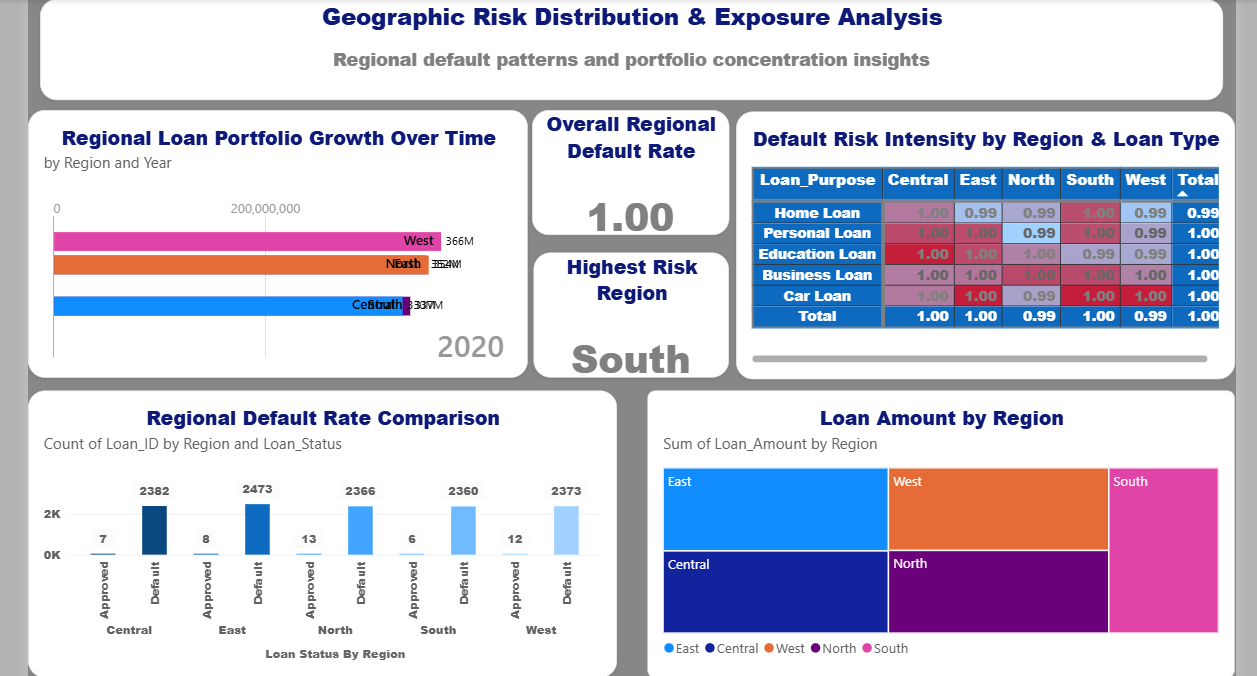

The page's visual inventory and layout, read from the dashboard file:
{"tool":"powerbi","page":{"name":"Geographic Risk Distribution & Exposure AnalysisGeographic Risk Distribution & Exposure Analysis","canvas":[1280,720],"ordinal":1},"visuals":[{"type":"wishyoulizationbarchartrace","fields":{"name":["banking_project credit_risk_data.Region"],"value":["Sum(banking_project credit_risk_data.Loan_Amount)"],"year":["banking_project credit_risk_data.Application_Date.Variation.Date Hierarchy.Year"]},"box":[0,118,530.3,283.8],"z":0},{"type":"columnChart","title":"Regional Default Rate Comparison","fields":{"Category":["banking_project credit_risk_data.Region","banking_project credit_risk_data.Loan_Status"],"Y":["CountNonNull(banking_project credit_risk_data.Loan_ID)"]},"box":[0,415.3,624.4,304.7],"z":1000},{"type":"pivotTable","title":"Default Risk Intensity by Region & Loan Type","fields":{"Columns":["banking_project credit_risk_data.Region"],"Rows":["banking_project credit_risk_data.Loan_Purpose"],"Values":["Avg(banking_project credit_risk_data.Default_Risk_Flag)"]},"box":[750.3,119.1,529.1,284.1],"z":2000},{"type":"textbox","title":"Geographic Risk Distribution & Exposure Analysis","box":[13.4,0,1254.8,107.6],"z":3000},{"type":"cardVisual","title":"Highest Risk Region","fields":{"Data":["banking_project credit_risk_data.Highest Default Region"]},"box":[536.3,268.9,207.6,132.9],"z":4000},{"type":"cardVisual","title":"Overall Regional Default Rate","fields":{"Data":["banking_project credit_risk_data.Regional Default Rate %"]},"box":[534.8,118,209.1,132.9],"z":5000},{"type":"treemap","title":"Loan Amount by Region","fields":{"Group":["banking_project credit_risk_data.Region"],"Values":["Sum(banking_project credit_risk_data.Loan_Amount)"]},"box":[656.7,415.1,622.7,304.5],"z":6000}]}

Visuals, with their boxes on the page's 1280x720 design canvas (x1, y1, x2, y2). These are canvas units, not pixel positions in the 1257x676 screenshot, which may show the page scaled, cropped or inside an application window:
wishyoulizationbarchartrace - banking_project credit_risk_data.Region x Sum(banking_project credit_risk_data.Loan_Amount): box=[0, 118, 530, 402]
"Regional Default Rate Comparison" columnChart: box=[0, 415, 624, 720]
"Default Risk Intensity by Region & Loan Type" pivotTable: box=[750, 119, 1279, 403]
"Geographic Risk Distribution & Exposure Analysis" textbox: box=[13, 0, 1268, 108]
"Highest Risk Region" cardVisual: box=[536, 269, 744, 402]
"Overall Regional Default Rate" cardVisual: box=[535, 118, 744, 251]
"Loan Amount by Region" treemap: box=[657, 415, 1279, 720]
